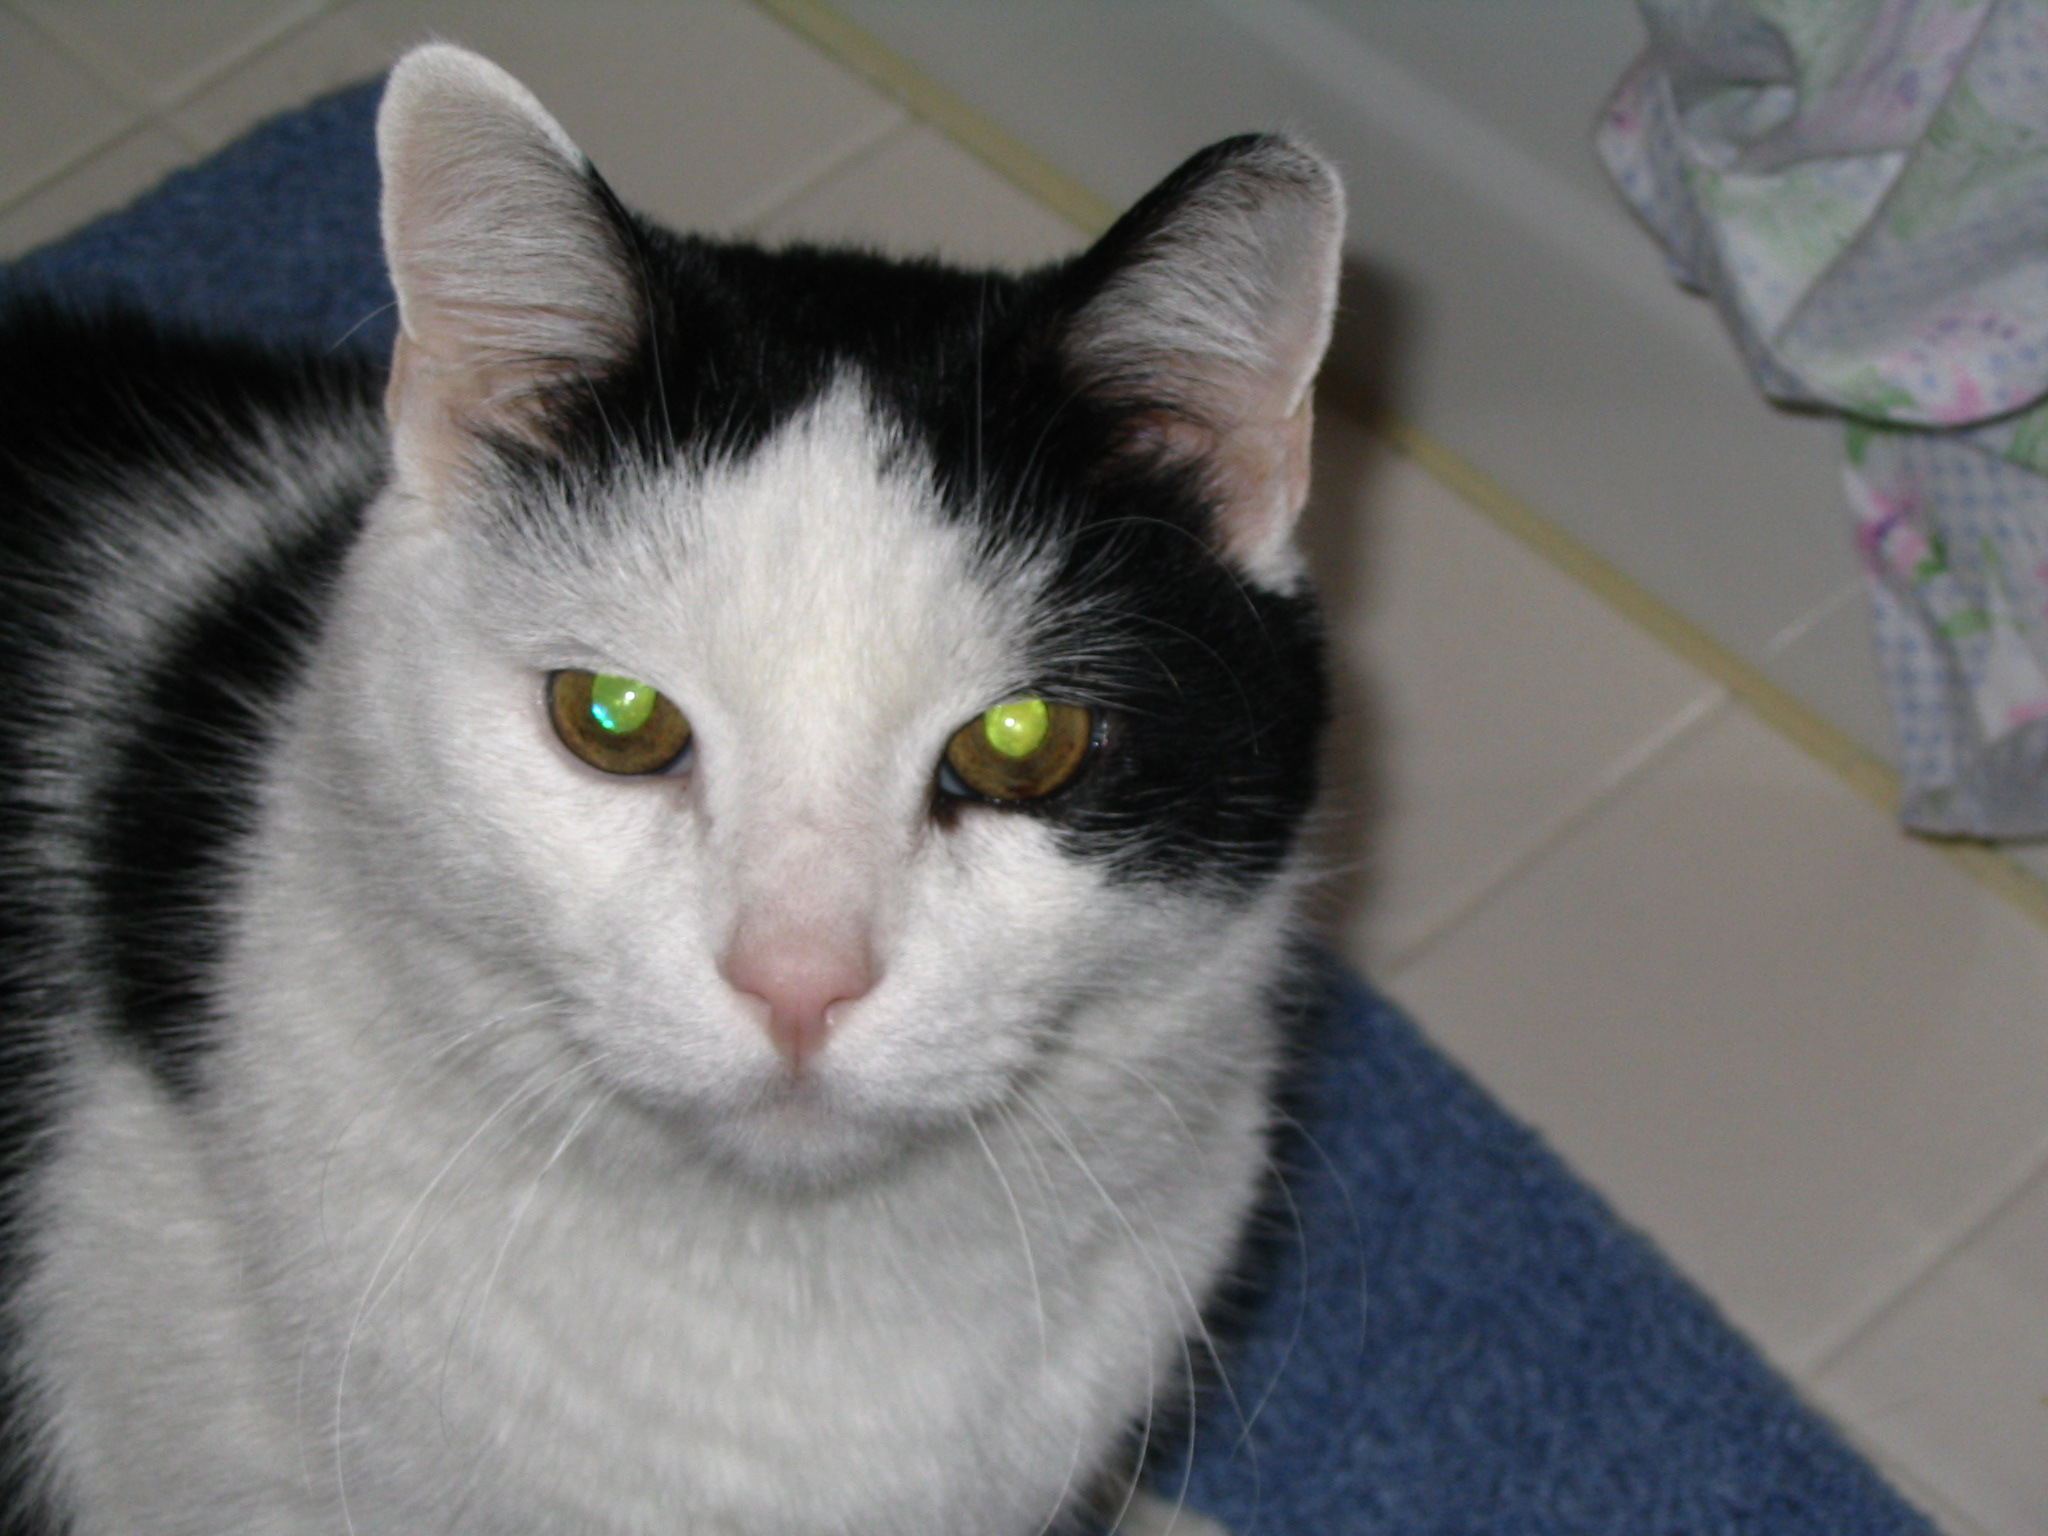cat-face: (334, 31, 1379, 1515)
